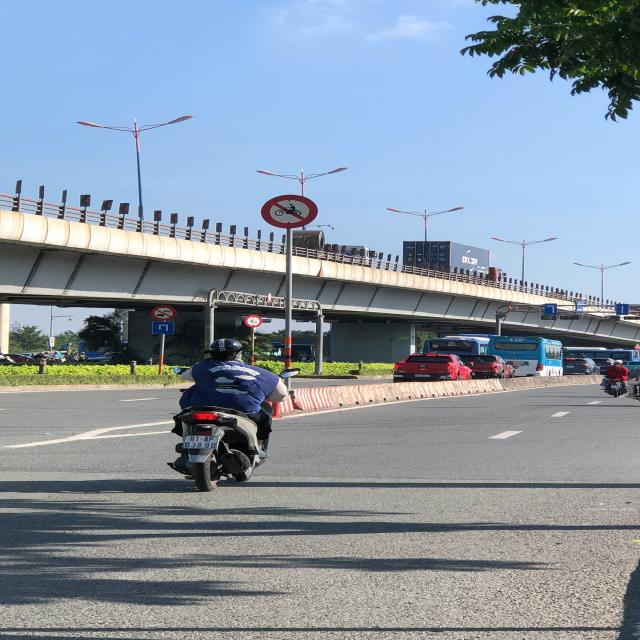Bien bao cam xe may: (260, 191, 323, 229)
